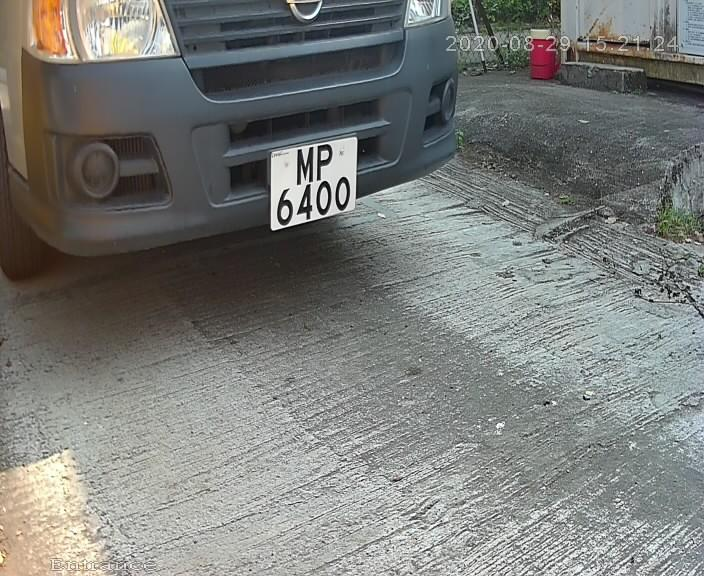License Plate: (255, 132, 365, 235)
